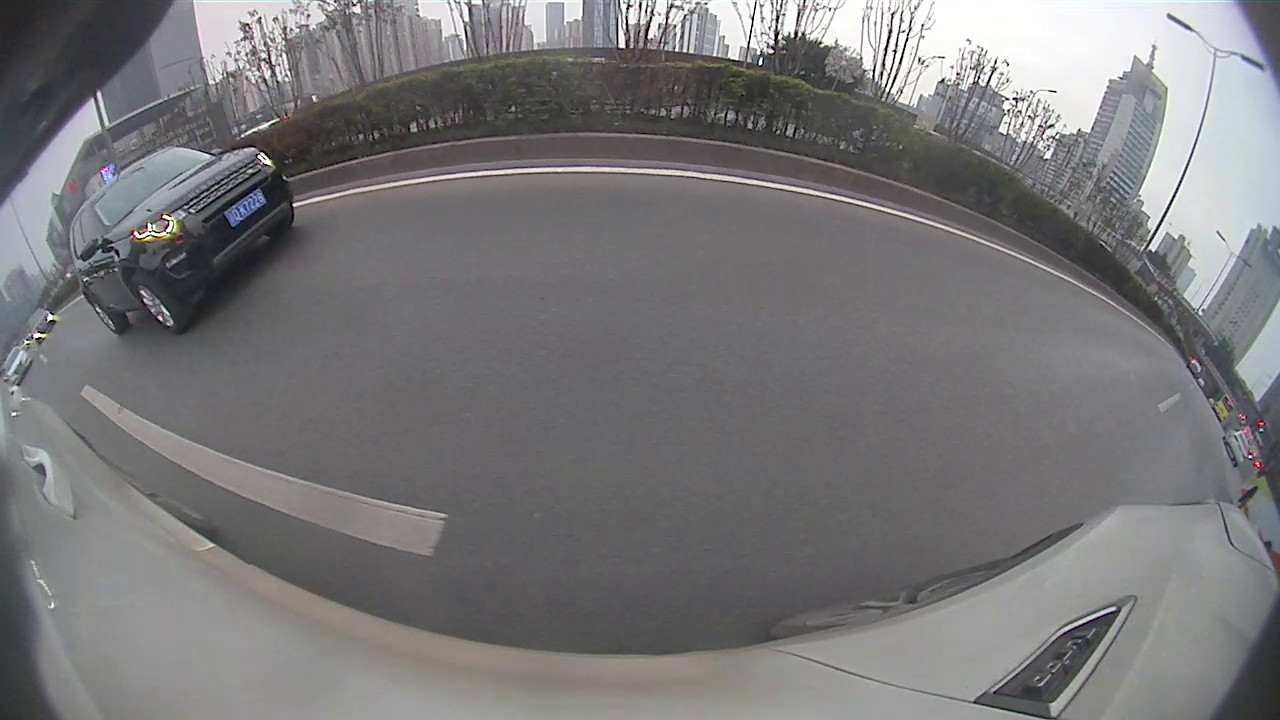car: (63, 147, 297, 333)
front: (129, 278, 181, 332)
rear: (85, 292, 120, 333)
